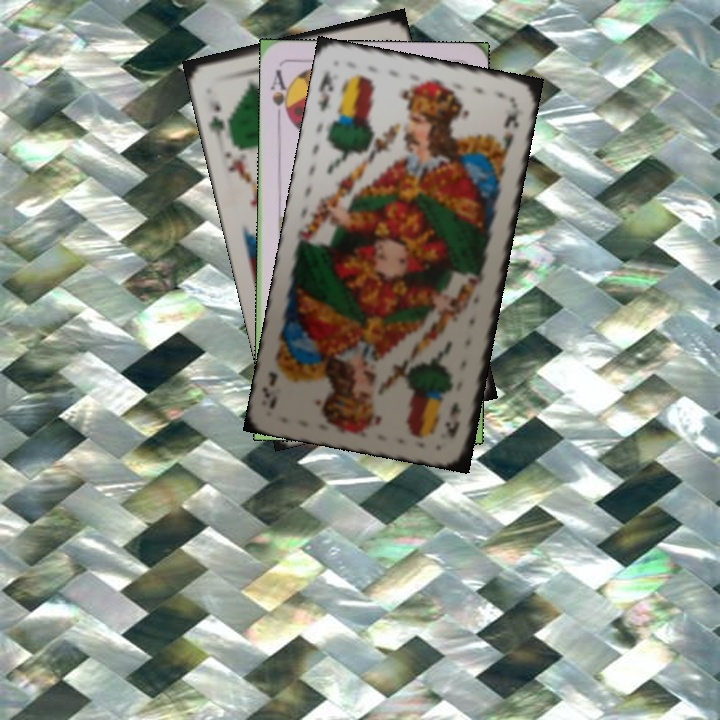EK: (314, 66, 336, 114), (441, 398, 463, 441)
GK: (204, 95, 234, 140)
SA: (266, 66, 293, 124)
